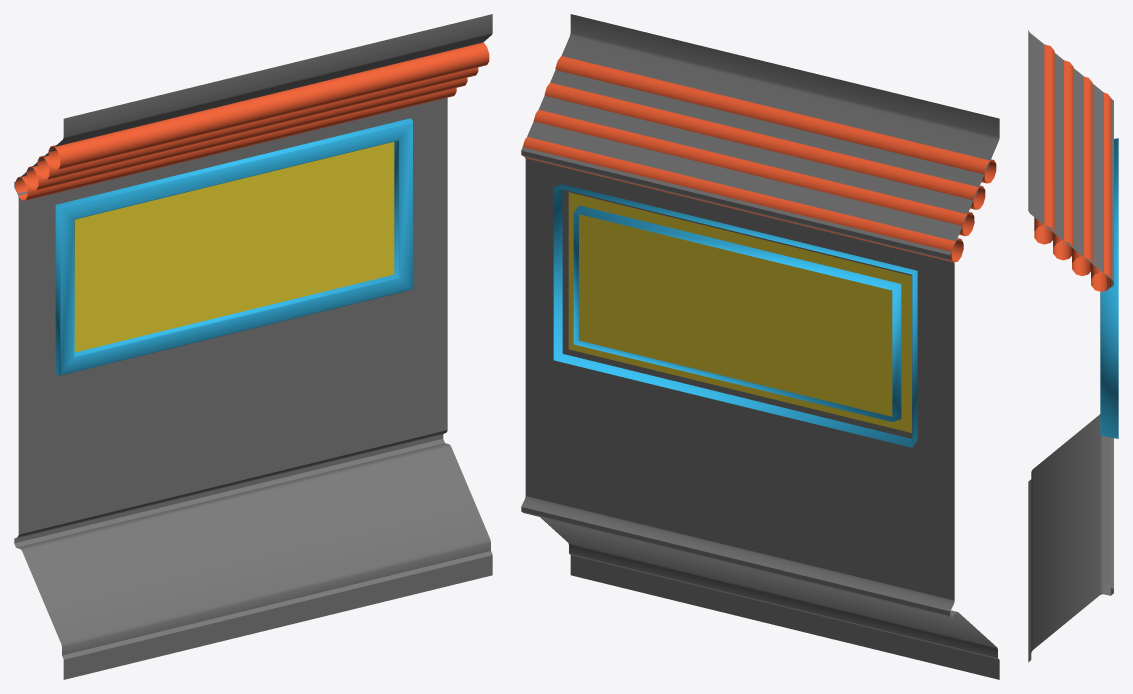
The model's file is WallB.FBX.
3 views of the same model, side by side, from view 1: azimuth 30°, elevation 25°; view 2: azimuth 150°, elevation 25°; view 3: azimuth 270°, elevation 25° (orthographic). The views are drawn at different scales.
Parts seen in each view (by area): view 1: WallB; view 2: WallB; view 3: WallB.
Boxes of the visible parts, x1,y1,x2,y2 form: WallB: (14,14,492,679); WallB: (521,14,999,679); WallB: (1028,30,1118,662).
Bounding box in the file's own units: 200 × 250 × 42.15.
